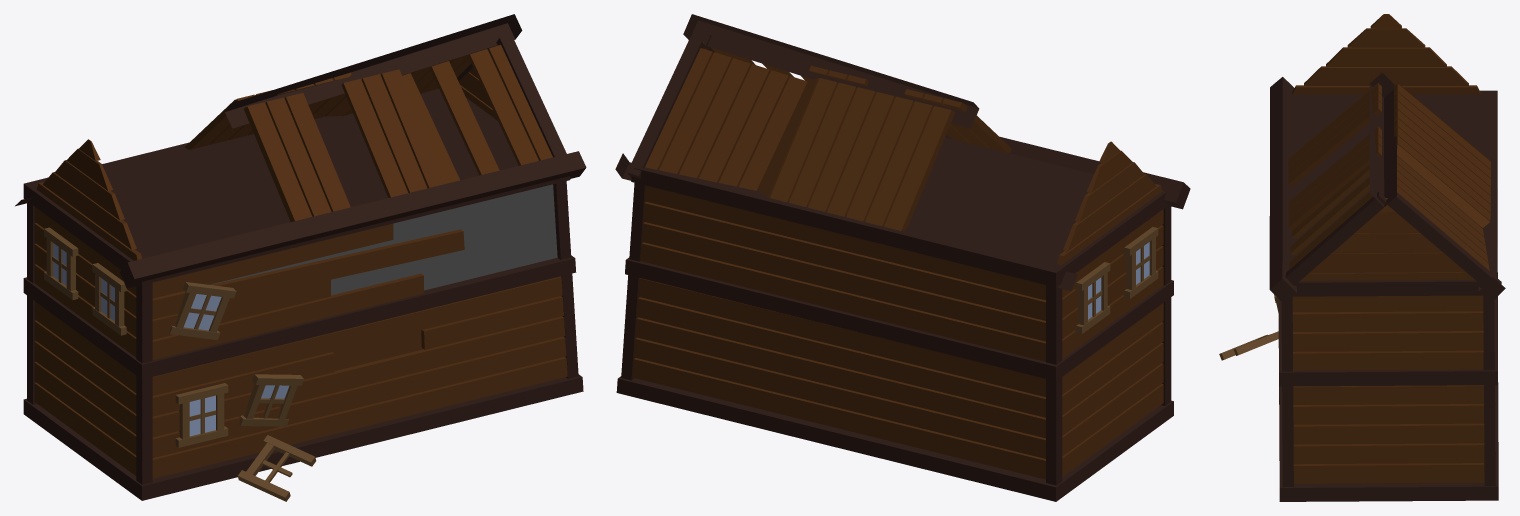
File: Buzilgan maktab.fbx
3 views of the same model, side by side, from view 1: azimuth 30°, elevation 25°; view 2: azimuth 150°, elevation 25°; view 3: azimuth 270°, elevation 25° (orthographic). The views are drawn at different scales.
Visible parts, largest first — view 1: Cube.034, Wooden wall.003, Wooden wall.006, Cube.032, Wooden wall, Cube.001, Cube, Wooden wall.004, Cube.026, Cube.011, Cube.023, Cube.013 (+5 smaller); view 2: Cube.034, Wooden wall.001, Wooden wall.006, Cube.032, Wooden wall, Cube.001, Cube, Wooden wall.004, Cube.004, Cube.030, Wooden wall.003; view 3: Cube.034, Wooden wall.002, Wooden wall.006, Wooden wall.004, Cube.032, Cube.001, Cube, Wooden wall.001, Plane.001, Cube.013, Plane.
Part boxes in pixels (<box>): Cube.034: <box>15,14,586,288</box>; Wooden wall.003: <box>136,276,567,484</box>; Wooden wall.006: <box>27,181,571,363</box>; Cube.032: <box>23,88,570,284</box>; Wooden wall: <box>27,295,136,475</box>; Cube.001: <box>23,374,583,500</box>; Cube: <box>23,255,576,379</box>; Wooden wall.004: <box>36,39,498,260</box>; Cube.026: <box>175,383,228,447</box>; Cube.011: <box>169,282,236,339</box>; Cube.023: <box>239,374,303,426</box>; Cube.013: <box>238,435,316,501</box>; Cube.034: <box>615,14,1190,290</box>; Wooden wall.001: <box>621,275,1045,479</box>; Wooden wall.006: <box>629,183,1171,364</box>; Cube.032: <box>631,137,1168,287</box>; Wooden wall: <box>1046,303,1163,485</box>; Cube.001: <box>616,376,1173,501</box>; Cube: <box>625,257,1173,381</box>; Wooden wall.004: <box>703,42,1162,265</box>; Cube.004: <box>1075,262,1110,334</box>; Cube.030: <box>1123,227,1158,298</box>; Wooden wall.003: <box>1161,297,1171,405</box>; Cube.034: <box>1269,72,1505,303</box>; Wooden wall.002: <box>1282,385,1484,486</box>; Wooden wall.006: <box>1281,295,1494,371</box>; Wooden wall.004: <box>1292,14,1480,280</box>; Cube.032: <box>1291,90,1497,296</box>; Cube.001: <box>1278,344,1498,501</box>; Cube: <box>1278,247,1497,386</box>; Wooden wall.001: <box>1484,385,1495,485</box>; Plane.001: <box>1309,212,1465,273</box>; Cube.013: <box>1219,331,1278,360</box>; Plane: <box>1307,28,1468,85</box>.
Bounding box in the file's own units: 5050 × 3689 × 2986.
